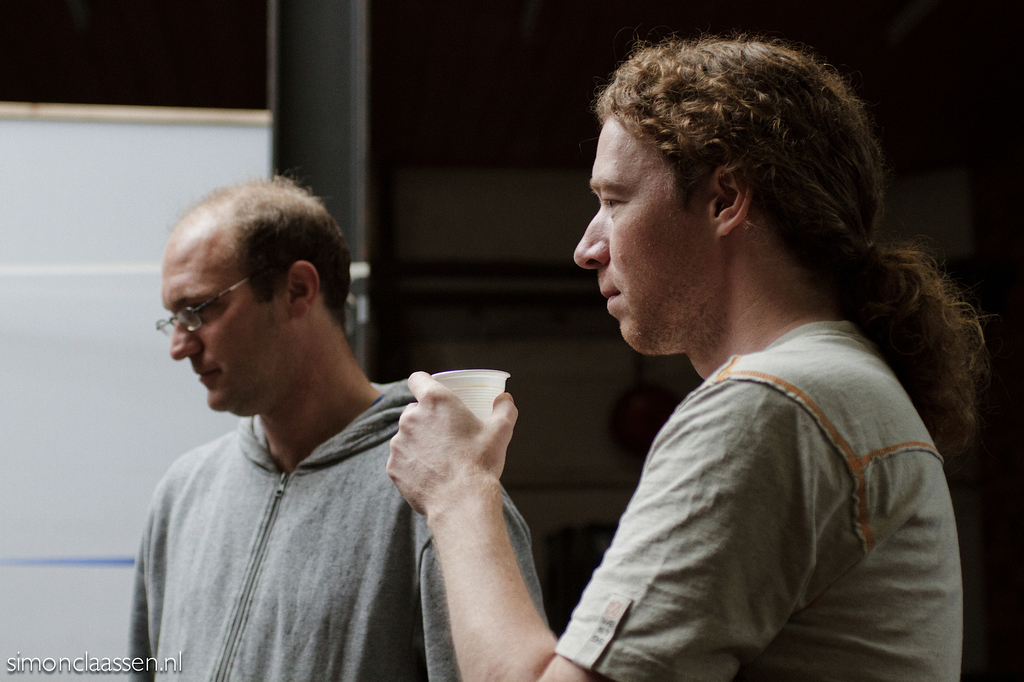Human-face: (570, 110, 715, 361), (164, 240, 301, 406)
